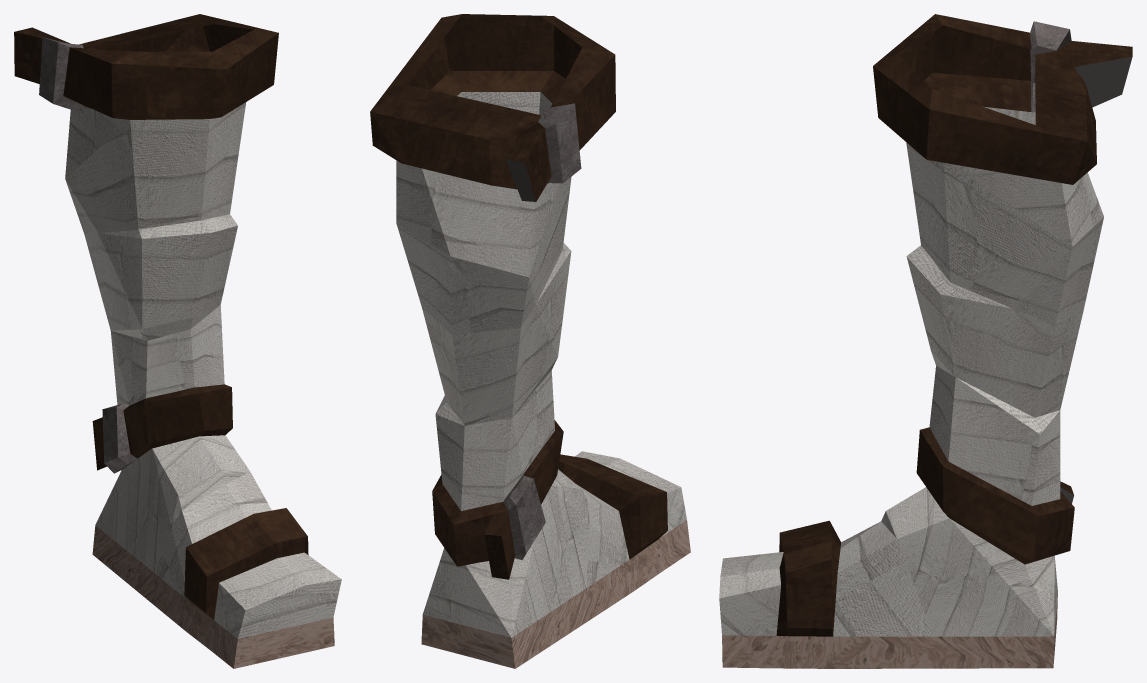
The model's file is Chr_LegLeft_Female_17_Static.fbx.
The picture shows the model from 3 angles, left to right: view 1: azimuth 30°, elevation 25°; view 2: azimuth 150°, elevation 25°; view 3: azimuth 270°, elevation 25°; orthographic projection. The views are drawn at different scales.
Visible parts, largest first — view 1: Chr_LegRight_Female_17; view 2: Chr_LegRight_Female_17; view 3: Chr_LegRight_Female_17.
Boxes of the visible parts, x1,y1,x2,y2 form: Chr_LegRight_Female_17: [14, 14, 341, 668]; Chr_LegRight_Female_17: [370, 14, 690, 668]; Chr_LegRight_Female_17: [719, 14, 1132, 668].
Size of the model in its own units: 1377 by 4020 by 2550.
